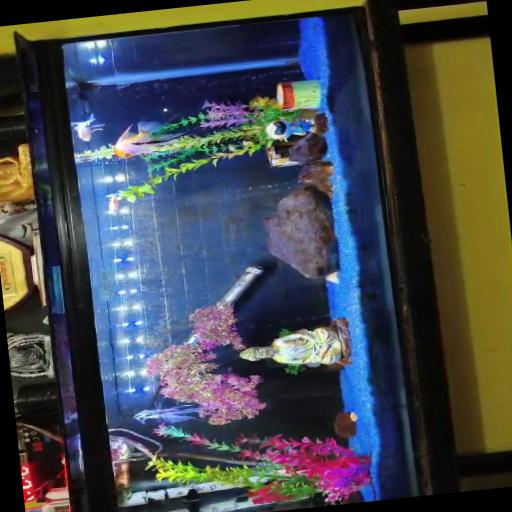Fish: (114, 121, 184, 159), (134, 405, 204, 423), (71, 114, 104, 141), (108, 194, 120, 213), (351, 413, 358, 422)
